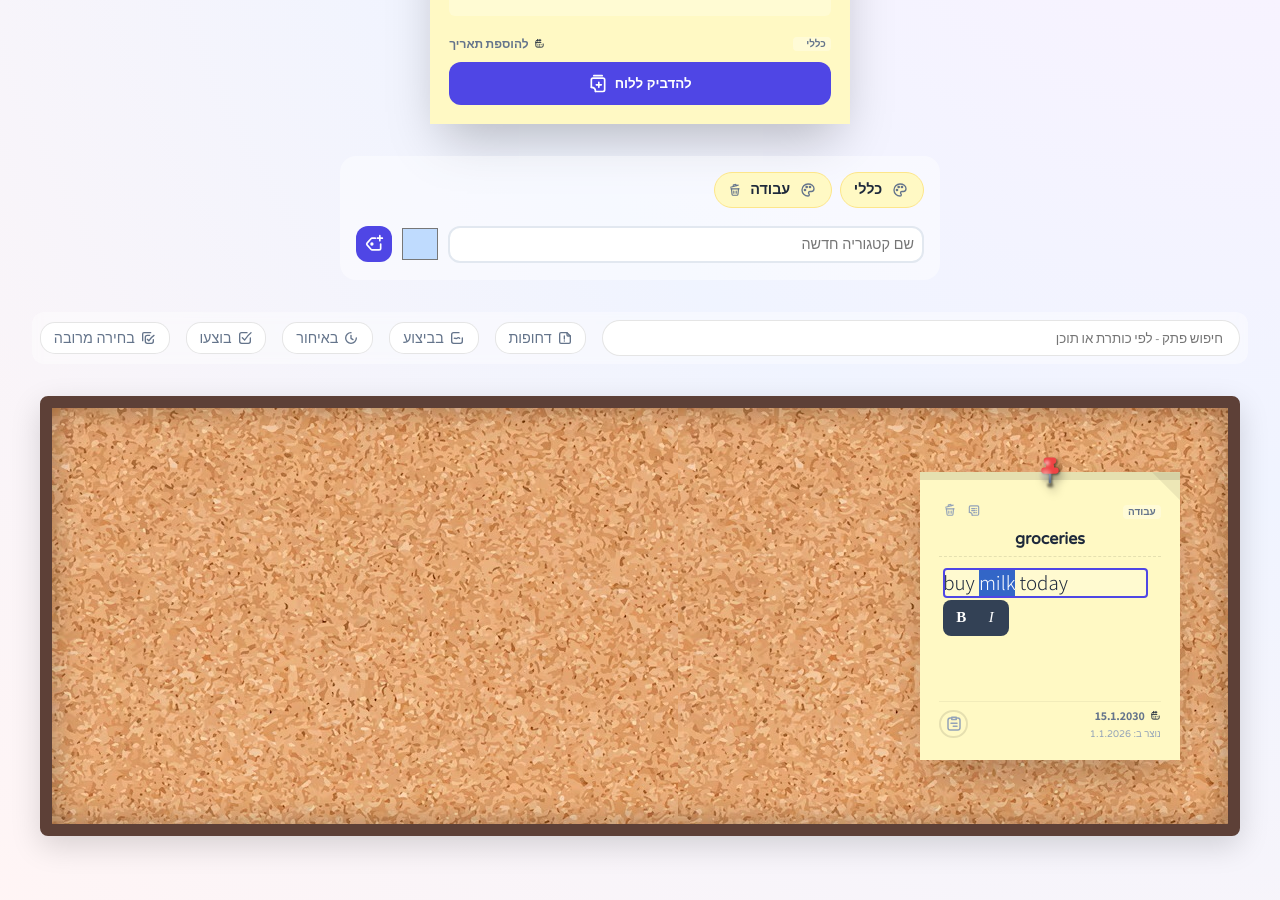
note fields are exposed by name › clicking bold on a selection wraps it in *bold*
(page scrolled)
Click the button named "הדגשת הטקסט שנבחר" at (961, 618), box [947,604,975,632]
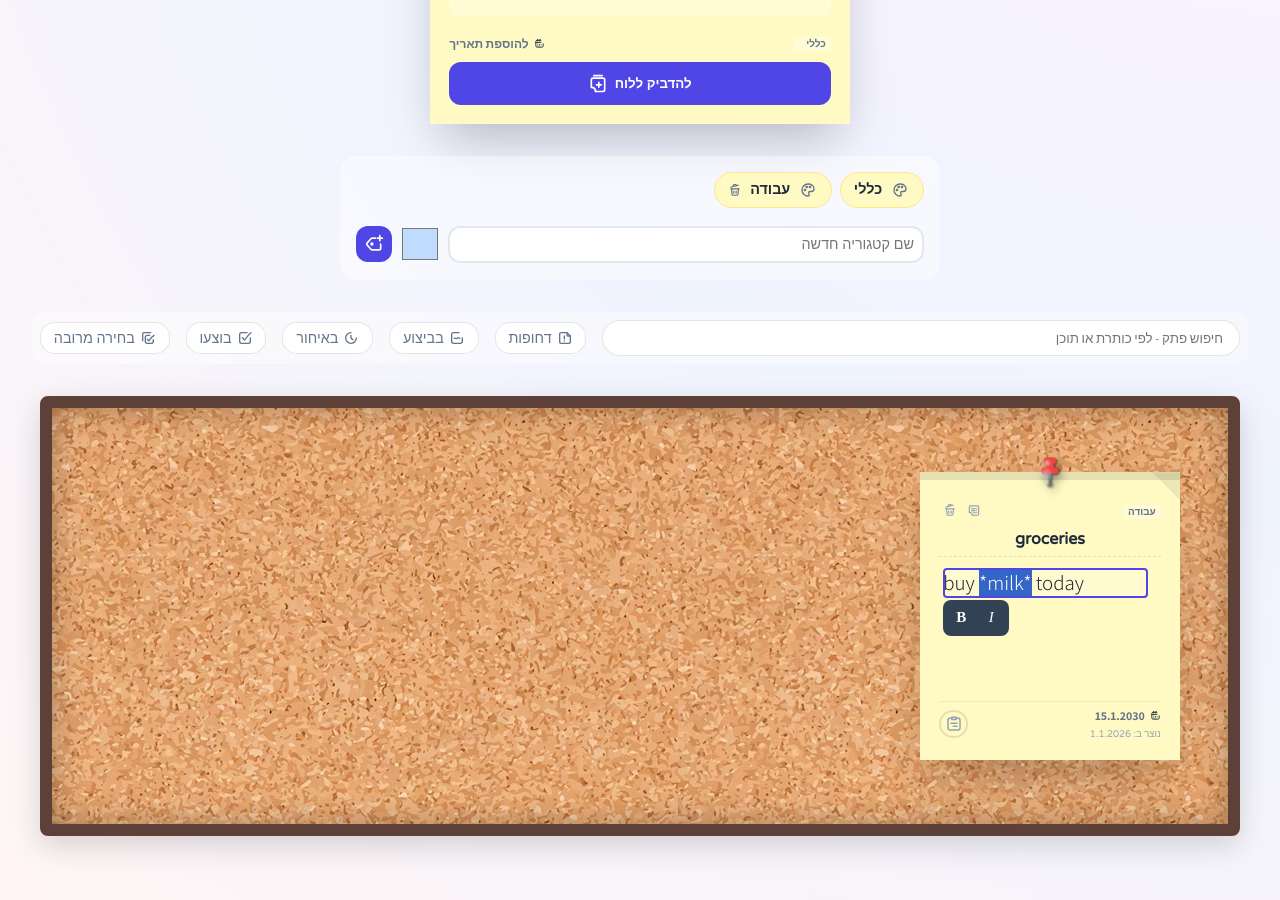
Expected: the field named "תוכן הפתק" reads "buy *milk* today", [943,568,1148,598]
